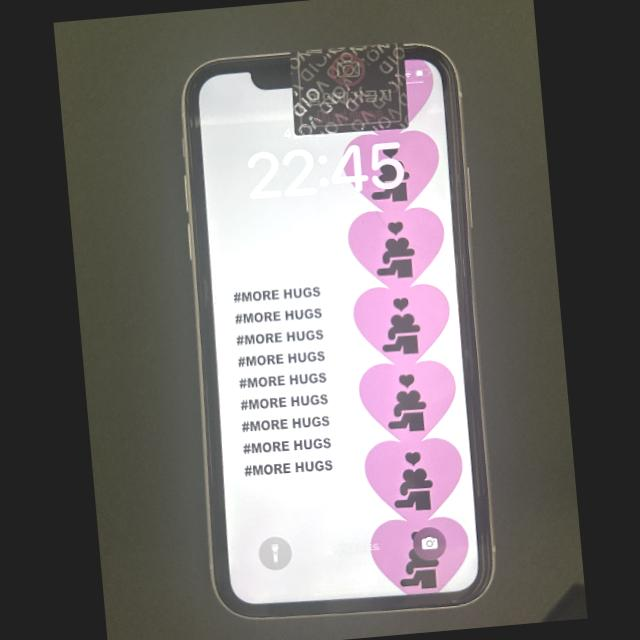phone: (183, 43, 493, 617)
sticker: (290, 41, 408, 135)
